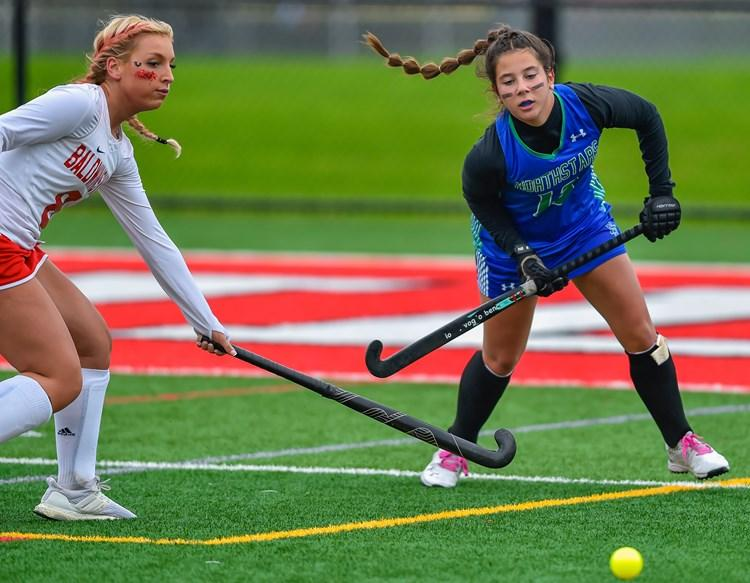ball: (605, 539, 658, 583)
